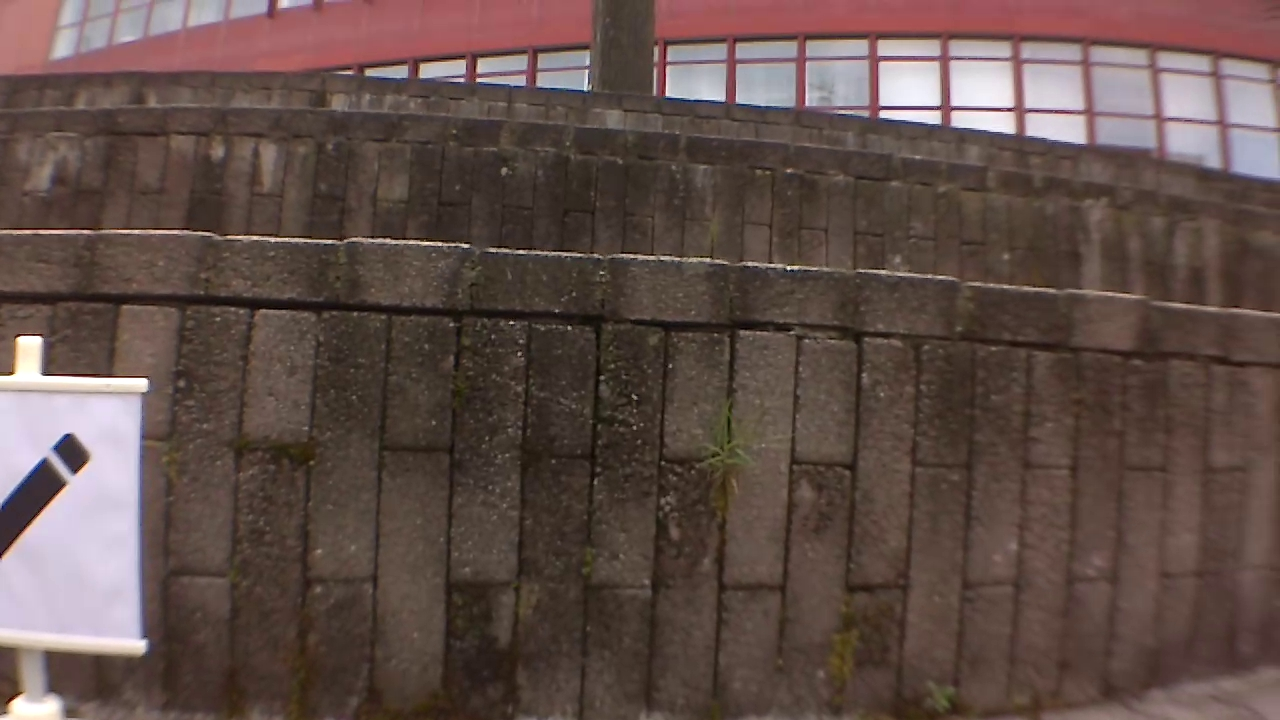pencil: (0, 433, 96, 604)
